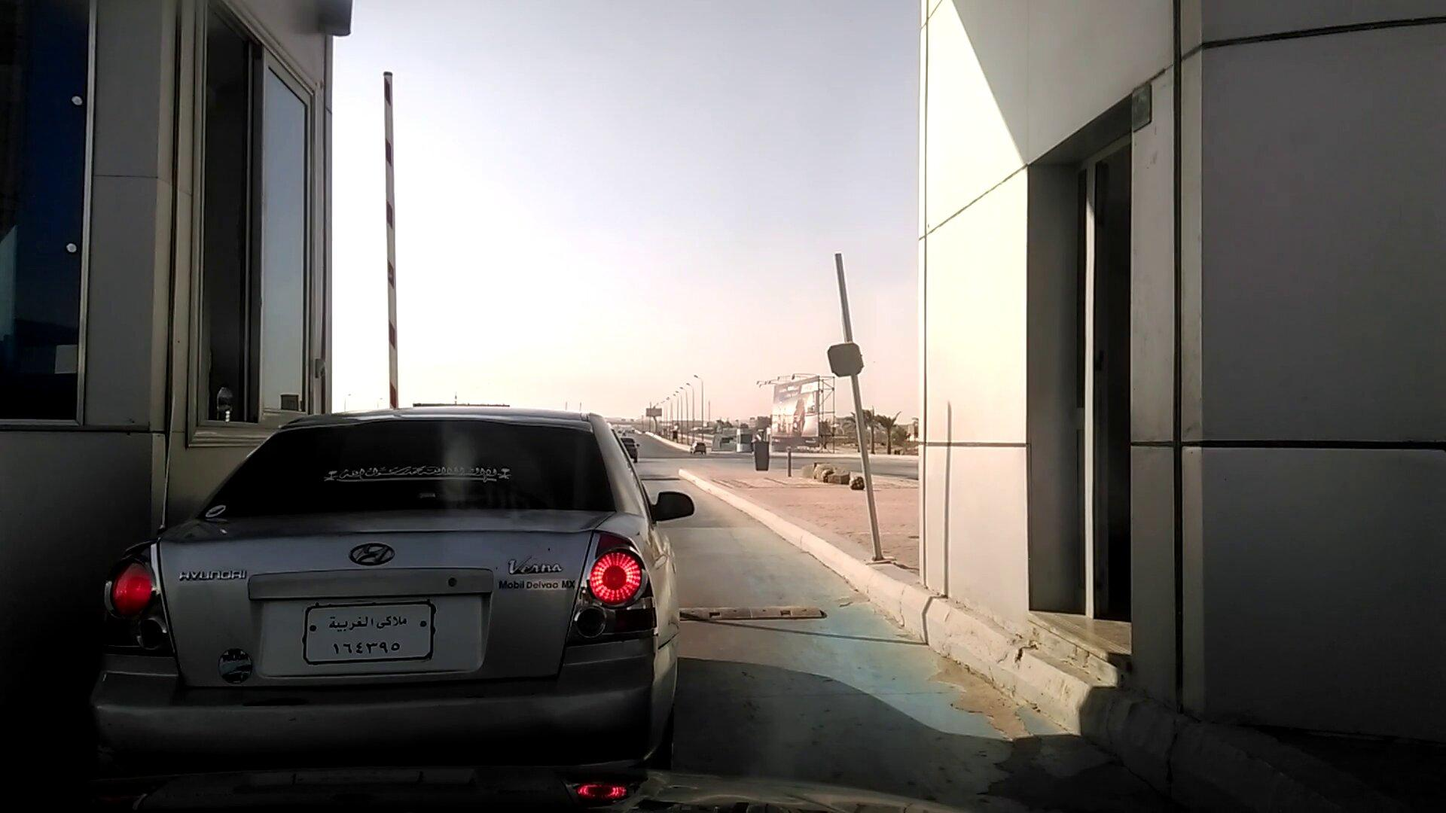Bump: (680, 600, 819, 627)
